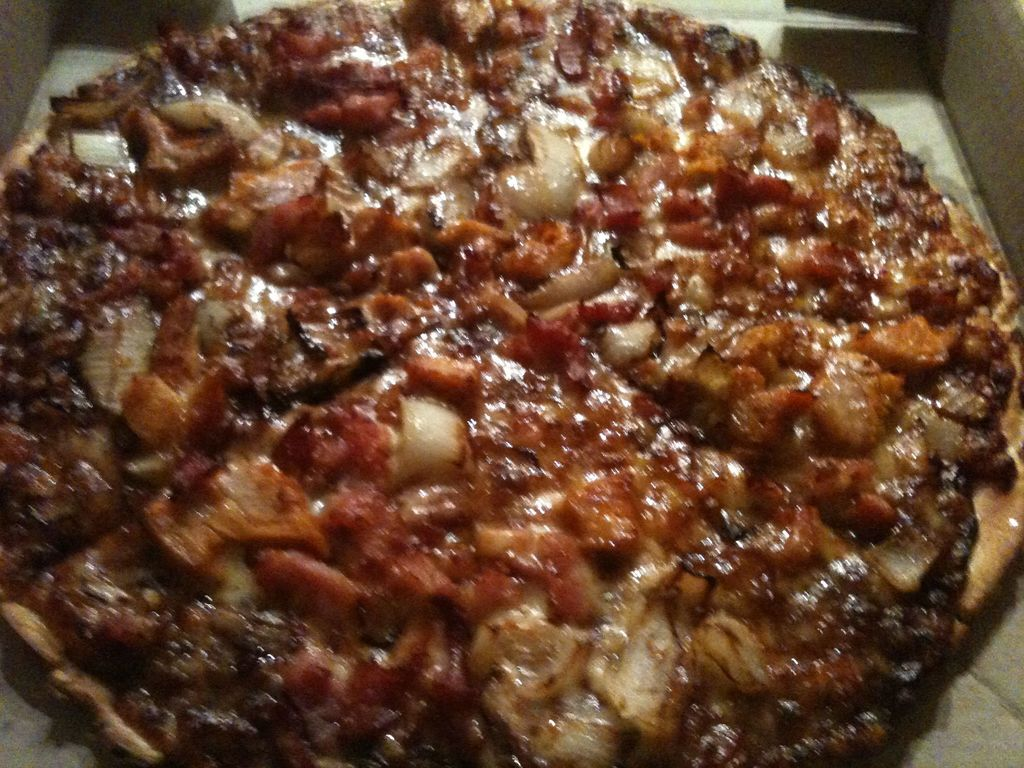Pizza: (33, 7, 1004, 746)
